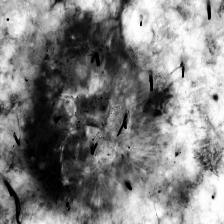Benign Marking or Mole: (18, 4, 159, 204), (27, 140, 74, 206)
